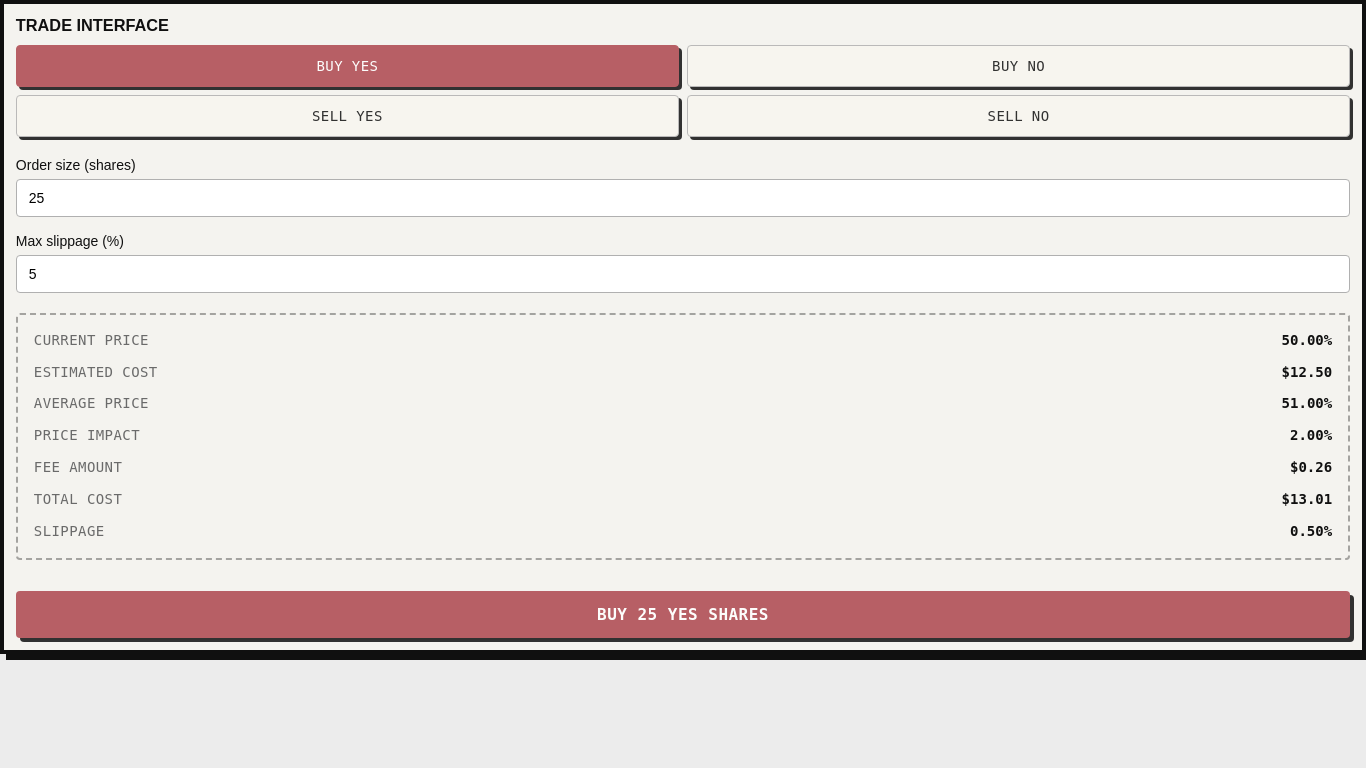
Test: TradeInterface › shows execute error and keeps trading actionable for retry
Click the button "Buy 25 YES shares" at coordinates (683, 615), box top-left (16, 591), bottom-right (1350, 638)
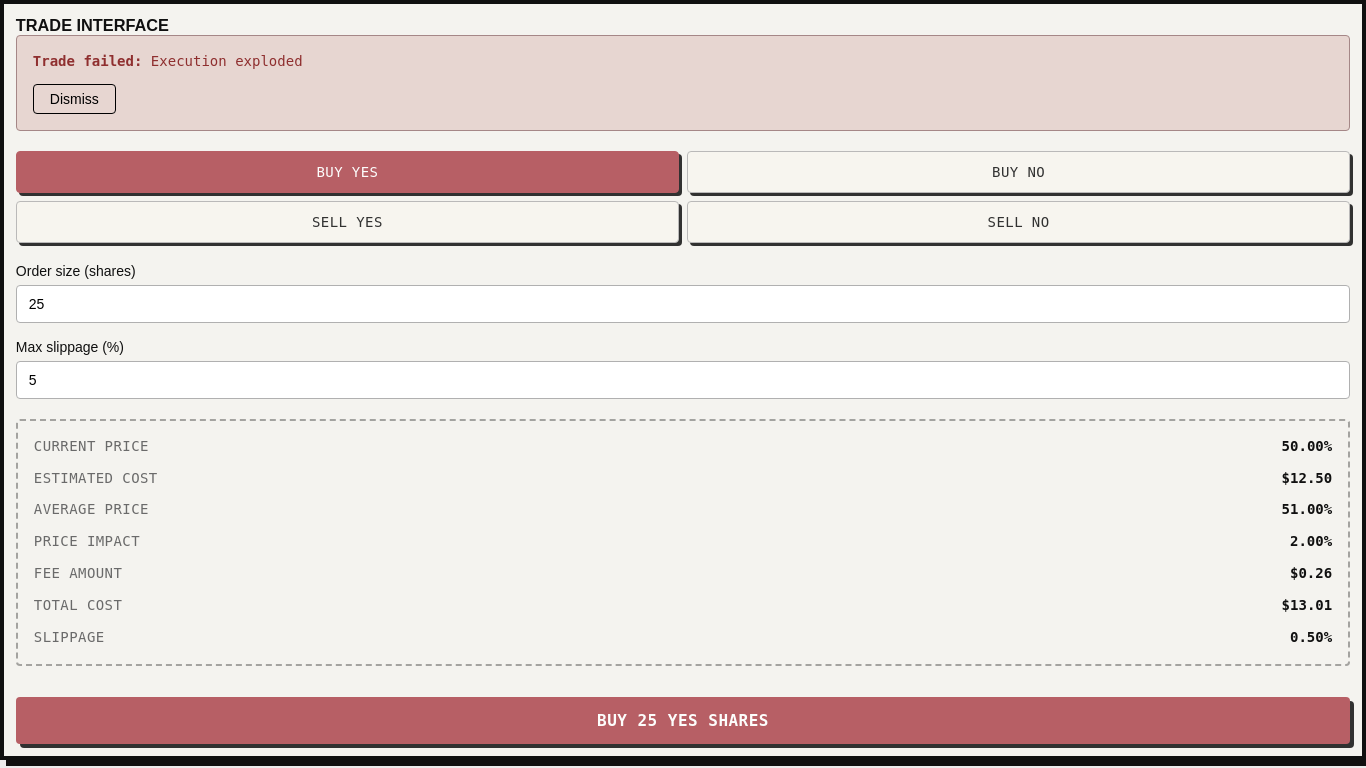
Expected: the button "Buy 25 YES shares" is enabled, top-left (16, 697), bottom-right (1350, 744)
Now the text "Execution exploded" is shown, box top-left (151, 53), bottom-right (302, 69)
